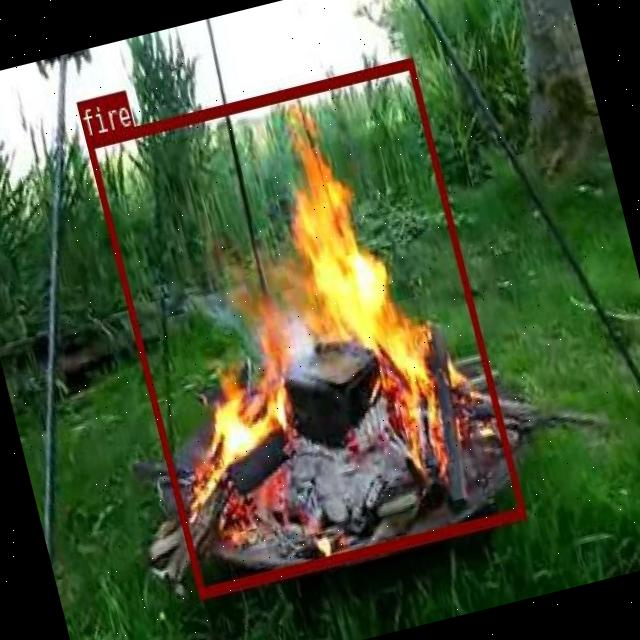fire: (83, 56, 524, 596)
